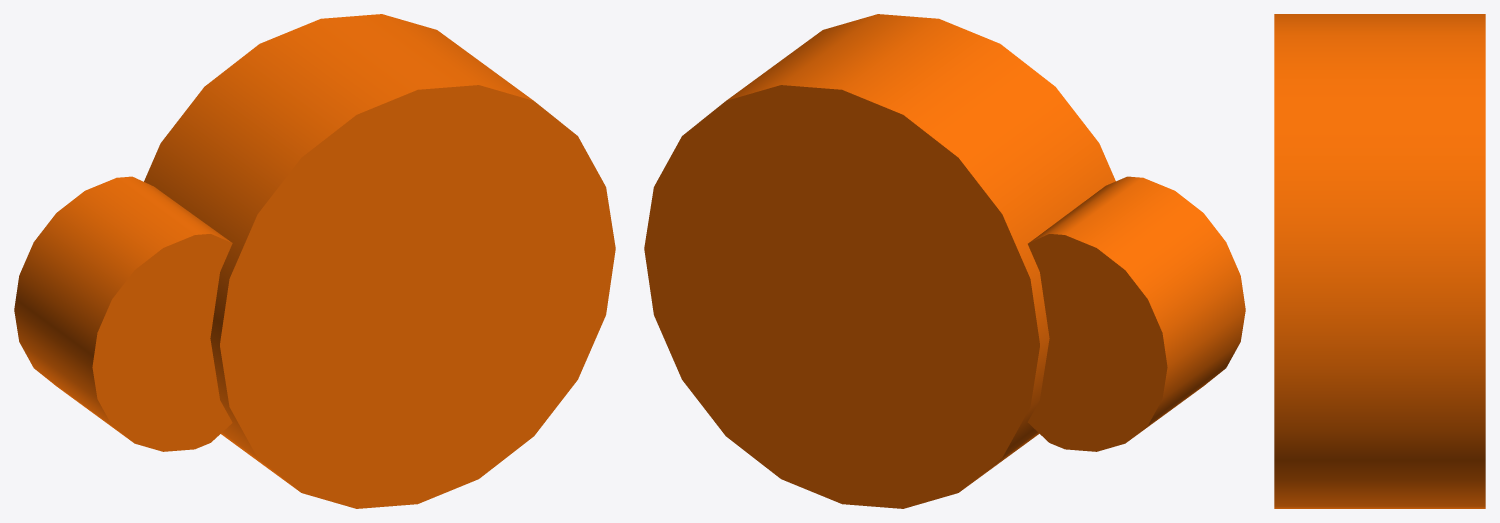
File: sunkey.fbx
3 views of the same model, side by side, from view 1: azimuth 30°, elevation 25°; view 2: azimuth 150°, elevation 25°; view 3: azimuth 270°, elevation 25° (orthographic). The views are drawn at different scales.
Parts seen in each view (by area): view 1: SunKey; view 2: SunKey; view 3: SunKey.
Boxes of the visible parts, x1,y1,x2,y2 form: SunKey: (14, 14, 615, 508); SunKey: (644, 14, 1245, 508); SunKey: (1274, 14, 1485, 508).
Bounding box in the file's own units: 1.7 × 1.31 × 0.5547.
